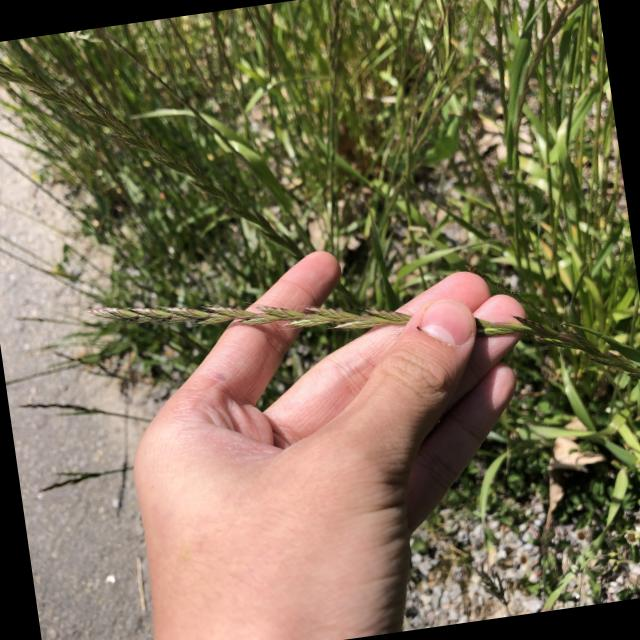Lolium: (79, 225, 640, 461)
